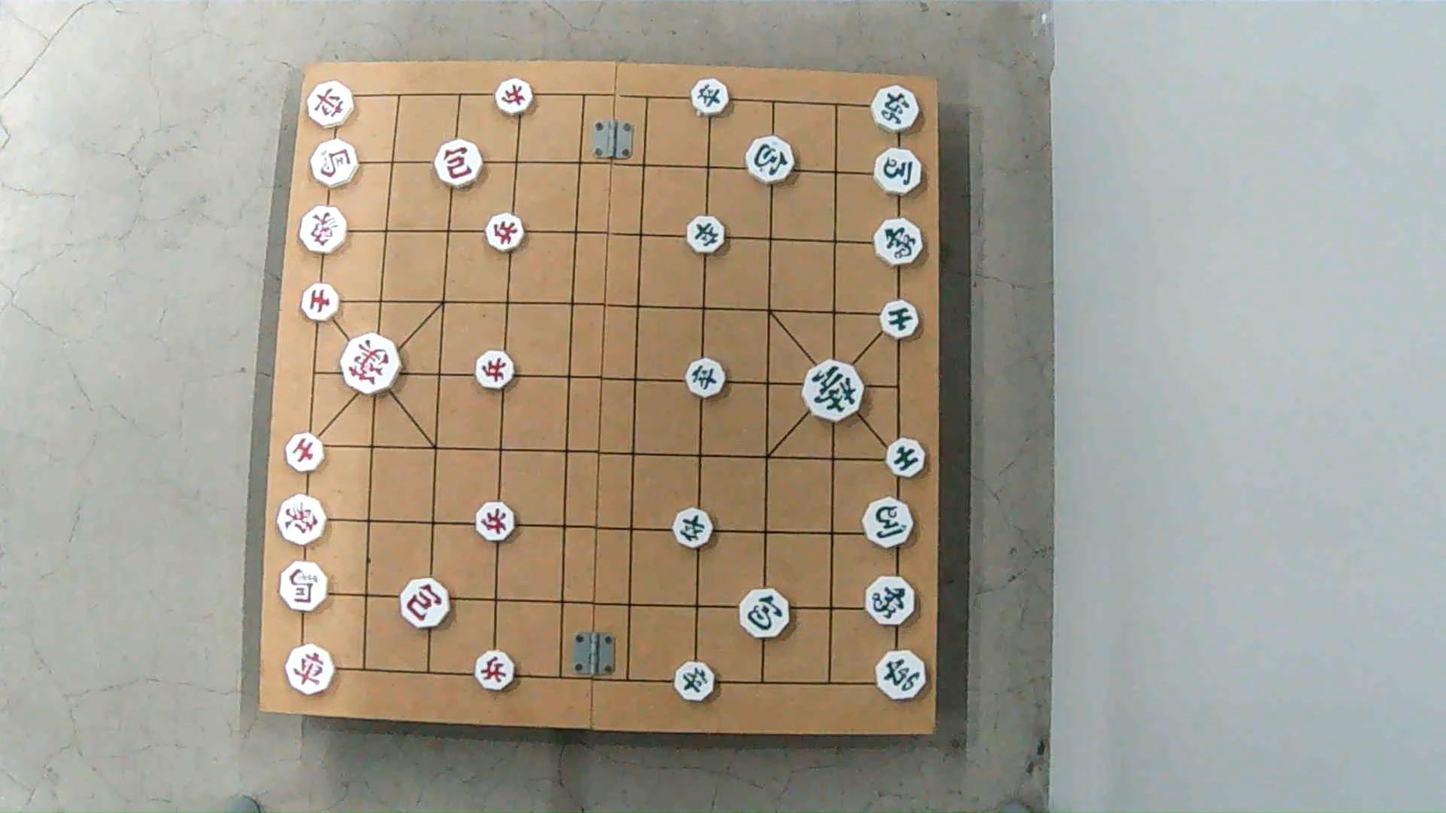cha_green: (873, 651, 926, 698), (871, 88, 922, 129)
cha_red: (285, 646, 337, 690), (306, 84, 355, 126)
jol_green: (672, 513, 717, 549), (675, 663, 718, 700), (685, 360, 728, 395), (687, 218, 730, 252), (690, 79, 732, 112)
jol_red: (474, 504, 519, 540), (473, 654, 517, 690), (473, 354, 517, 388), (484, 217, 526, 251), (493, 82, 535, 114)
ma_green: (862, 499, 916, 545), (872, 149, 923, 193)
ma_red: (283, 562, 333, 608), (307, 141, 358, 185)
po_green: (738, 592, 792, 637), (746, 139, 797, 182)
po_red: (401, 580, 452, 627), (432, 142, 484, 184)
sa_green: (885, 440, 927, 477), (877, 301, 920, 335)
sa_red: (285, 431, 326, 473), (301, 285, 338, 321)
sang_green: (865, 577, 919, 624), (874, 220, 924, 263)
sang_red: (277, 498, 329, 544), (298, 209, 349, 253)
wang_green: (802, 363, 865, 420)
wang_red: (339, 339, 403, 392)
